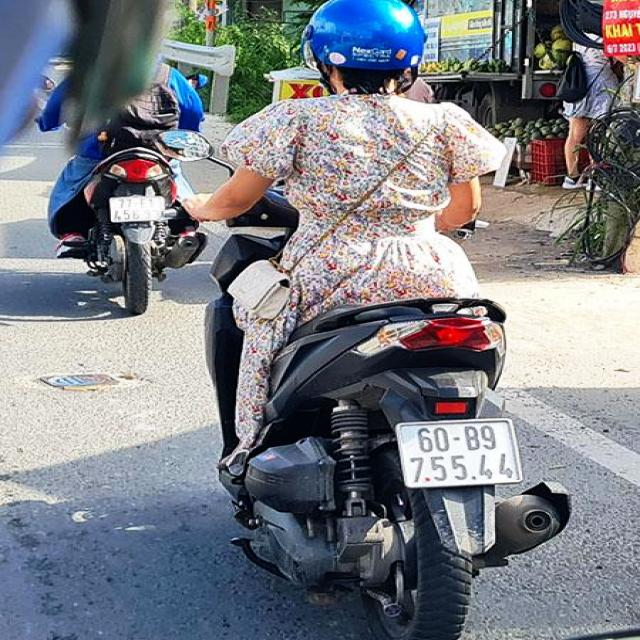license_plate: (398, 419, 523, 487), (110, 196, 165, 222)
